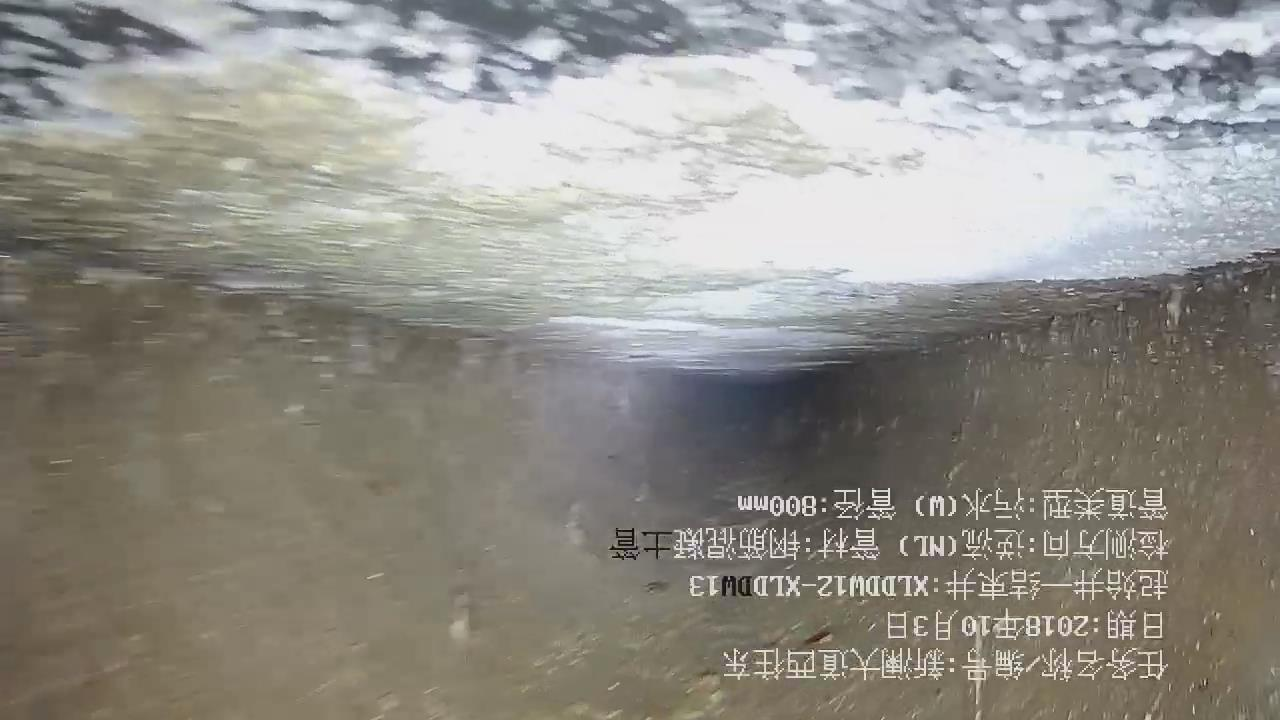FZ: (1, 1, 1280, 374)
